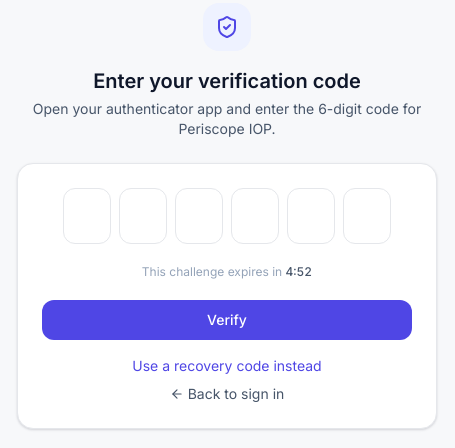
it: TotpLoginPage › toggles back to authenticator app
What coordinates should you click on to do the following:
click the button "Use a recovery code instead"
I would click on:
 (227, 366)
Its box is [42,356,412,376].
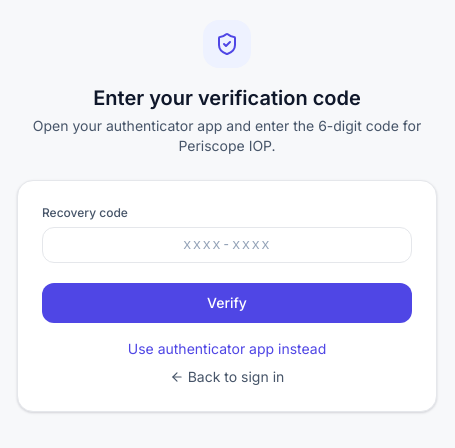
What coordinates should you click on to do the following:
click the button "Use authenticator app instead"
I would click on:
 (227, 349)
Its box is [42,339,412,359].
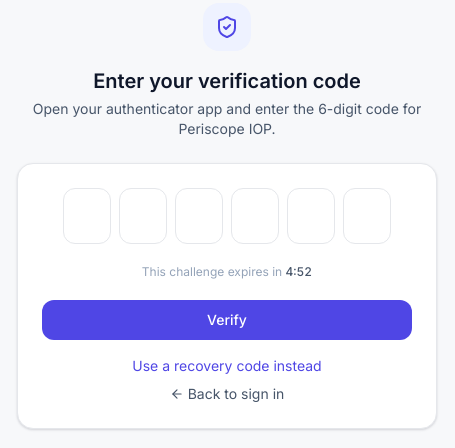
expect the number of fields is 6: met, box [63,188,111,244]; [119,188,167,244]; [175,188,223,244]; [231,188,279,244]; [287,188,335,244]; [343,188,391,244]
